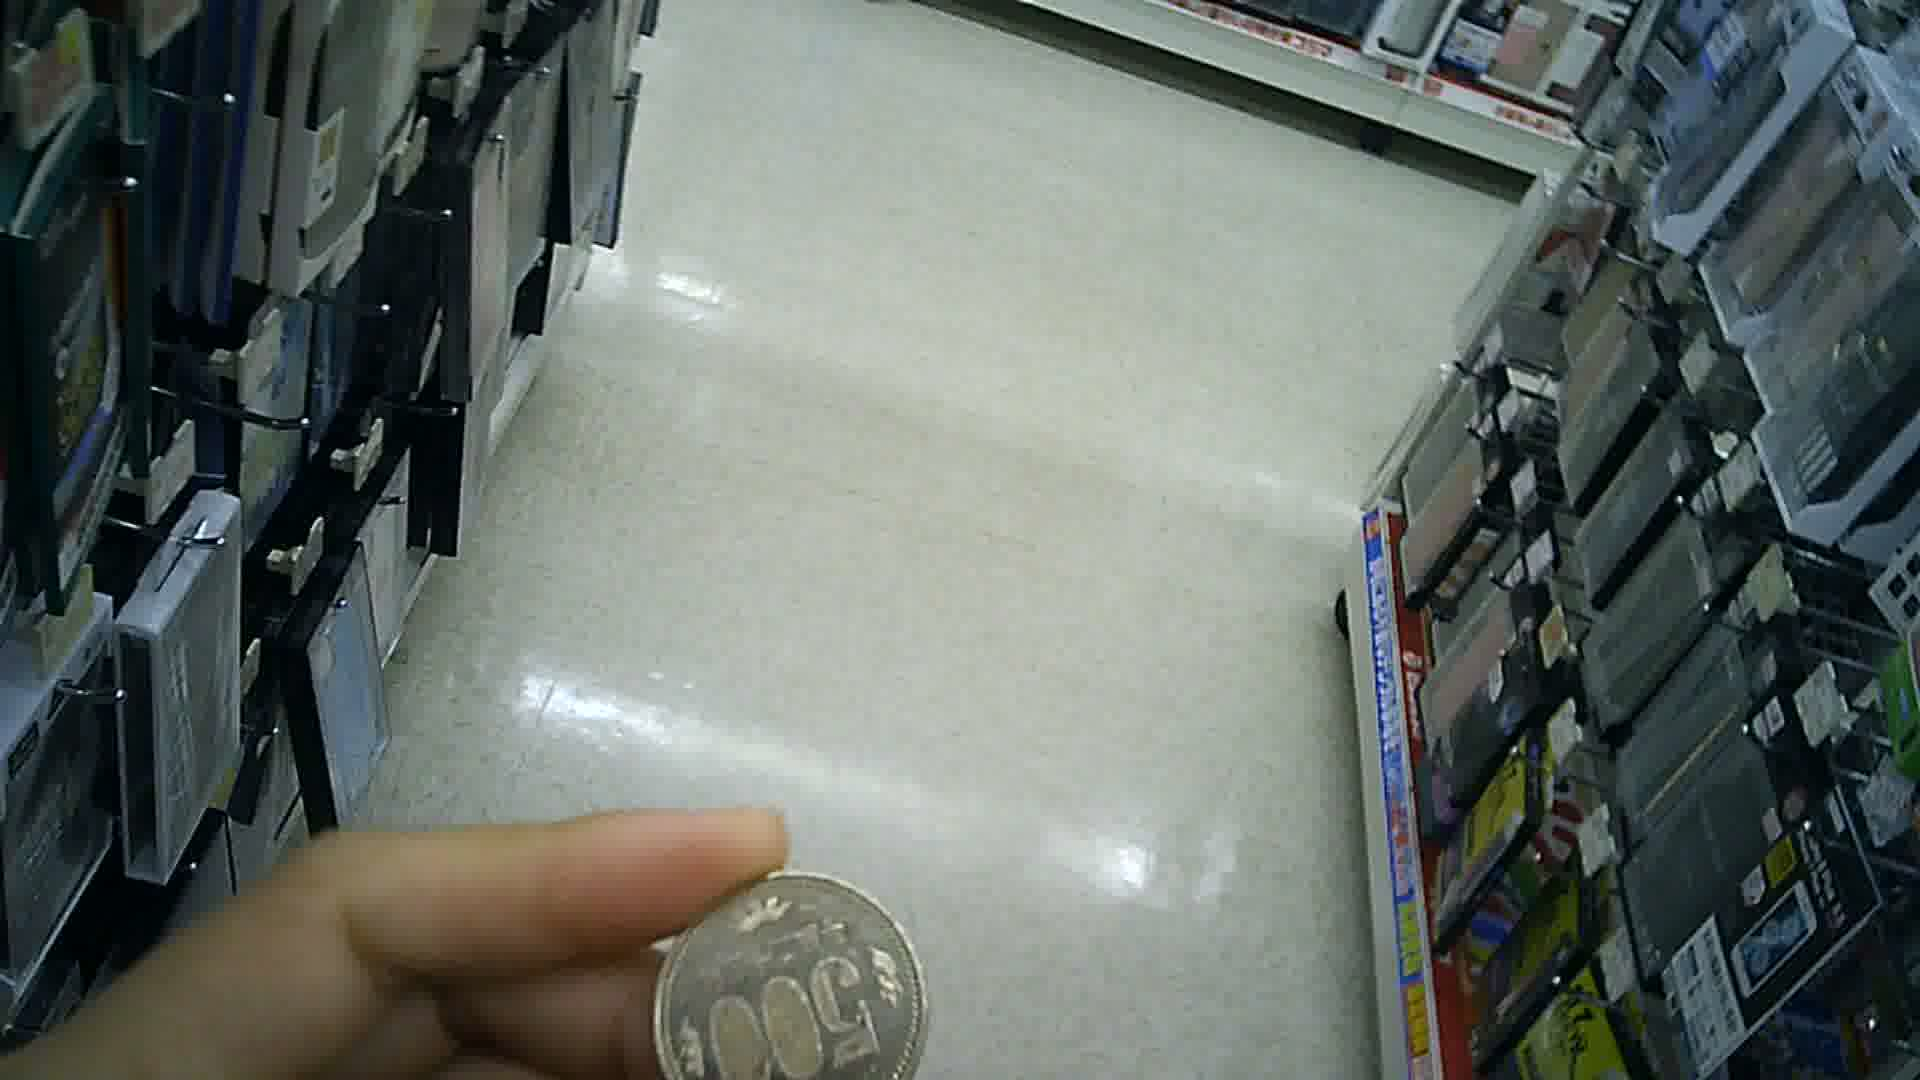500 Yen: (646, 860, 938, 1079)
